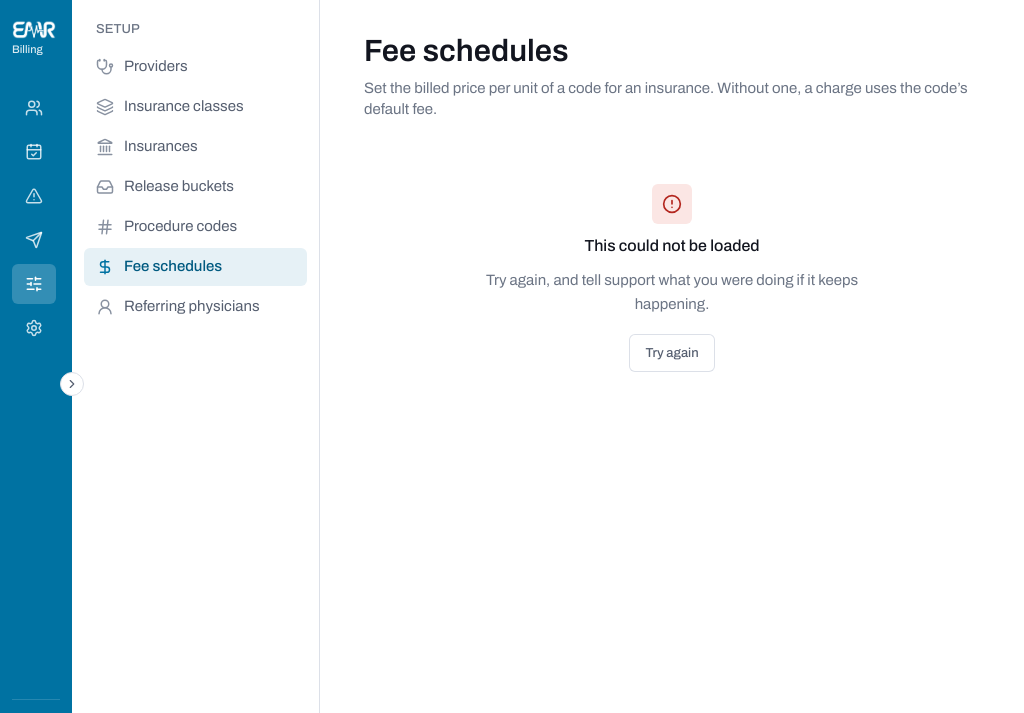
Test: Setup → Fee schedules › shows a failed load of the insurances with a retry
Click the button "Try again" at (672, 353), box [629, 334, 715, 372]
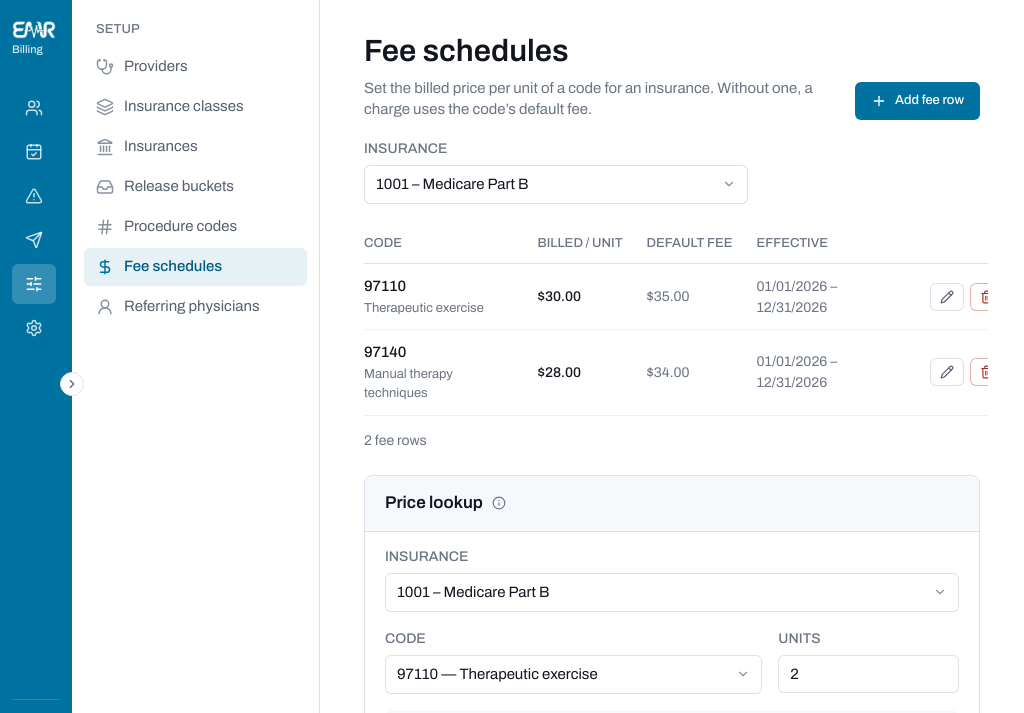
Check: the table named "Fee rows for Medicare Part B" is shown, box [364, 220, 988, 416]
